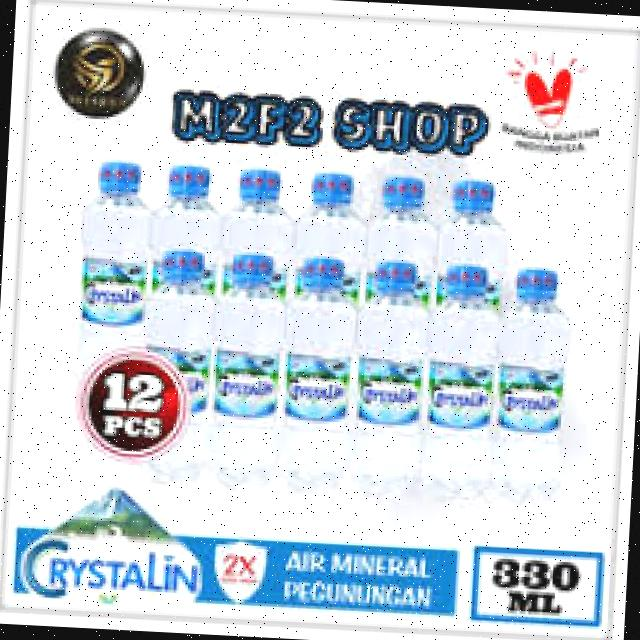bottle: (110, 247, 224, 497), (490, 265, 586, 509), (409, 261, 498, 516), (57, 164, 153, 399), (356, 258, 436, 511), (204, 250, 284, 502), (286, 256, 366, 504), (290, 165, 368, 346), (438, 170, 514, 336), (159, 171, 227, 350), (232, 164, 300, 343), (362, 170, 450, 308)
cap: (452, 175, 498, 229), (168, 160, 216, 209), (314, 166, 356, 220), (92, 160, 150, 199), (382, 177, 431, 220), (241, 164, 283, 212)
